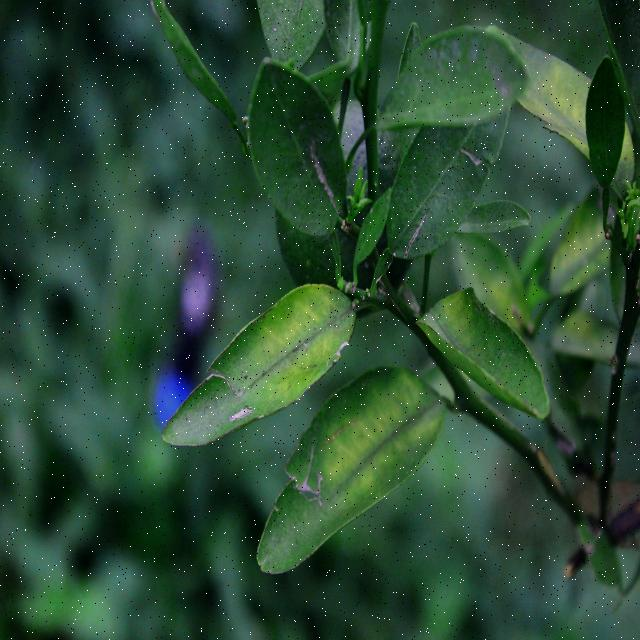blackspot: (162, 294, 344, 455), (446, 316, 502, 380)
